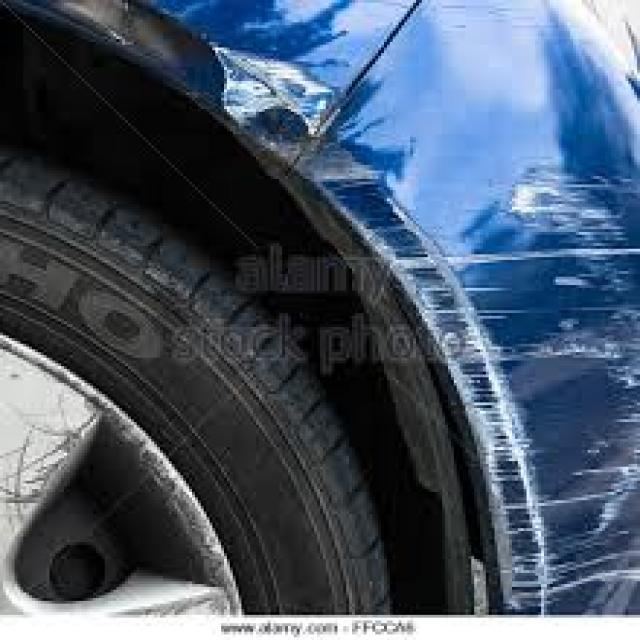minor: (380, 151, 640, 582), (135, 0, 362, 134)
